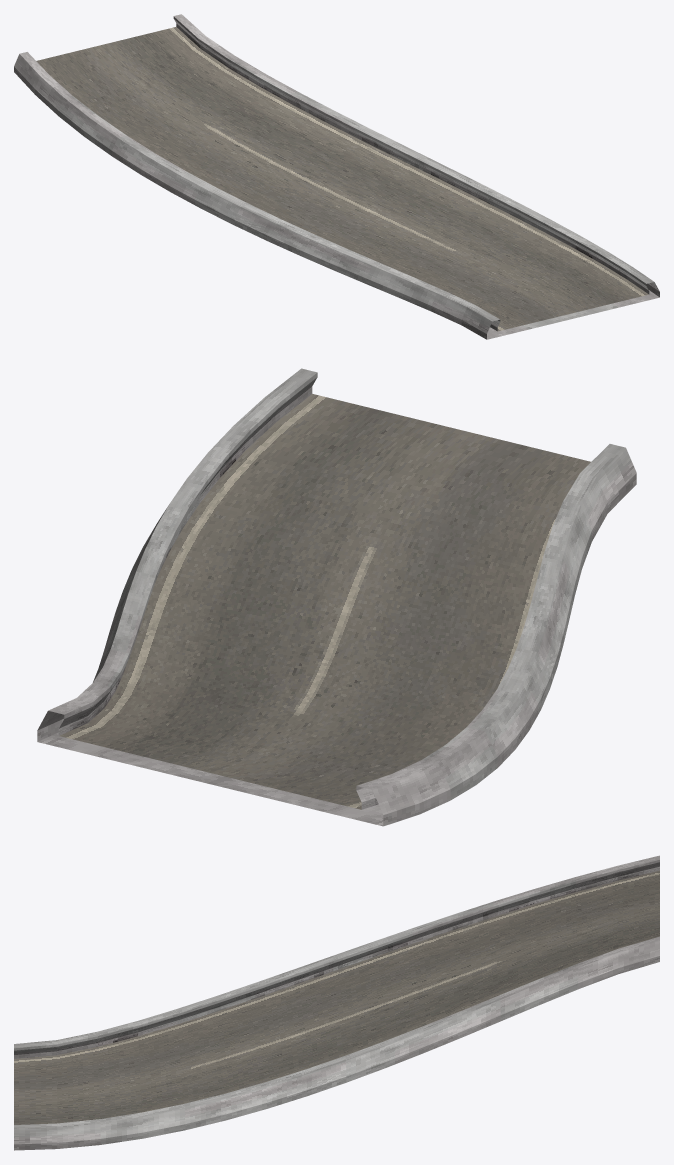
File: chicane-left1x3.glb
3 renders of one model, top to bottom at view 1: azimuth 30°, elevation 25°; view 2: azimuth 150°, elevation 25°; view 3: azimuth 270°, elevation 25°, orthographic. The views are drawn at different scales.
Parts seen in each view (by area): view 1: road-Chicane-Flat-BiSlopeUp-Up2-Left1-Size3; view 2: road-Chicane-Flat-BiSlopeUp-Up2-Left1-Size3; view 3: road-Chicane-Flat-BiSlopeUp-Up2-Left1-Size3.
Boxes of the visible parts, x1,y1,x2,y2 form: road-Chicane-Flat-BiSlopeUp-Up2-Left1-Size3: (14,14,659,339); road-Chicane-Flat-BiSlopeUp-Up2-Left1-Size3: (37,368,636,826); road-Chicane-Flat-BiSlopeUp-Up2-Left1-Size3: (14,855,659,1150).
Bounding box in the file's own units: 2 × 0.5938 × 3.
2 materials, 2 textured.
